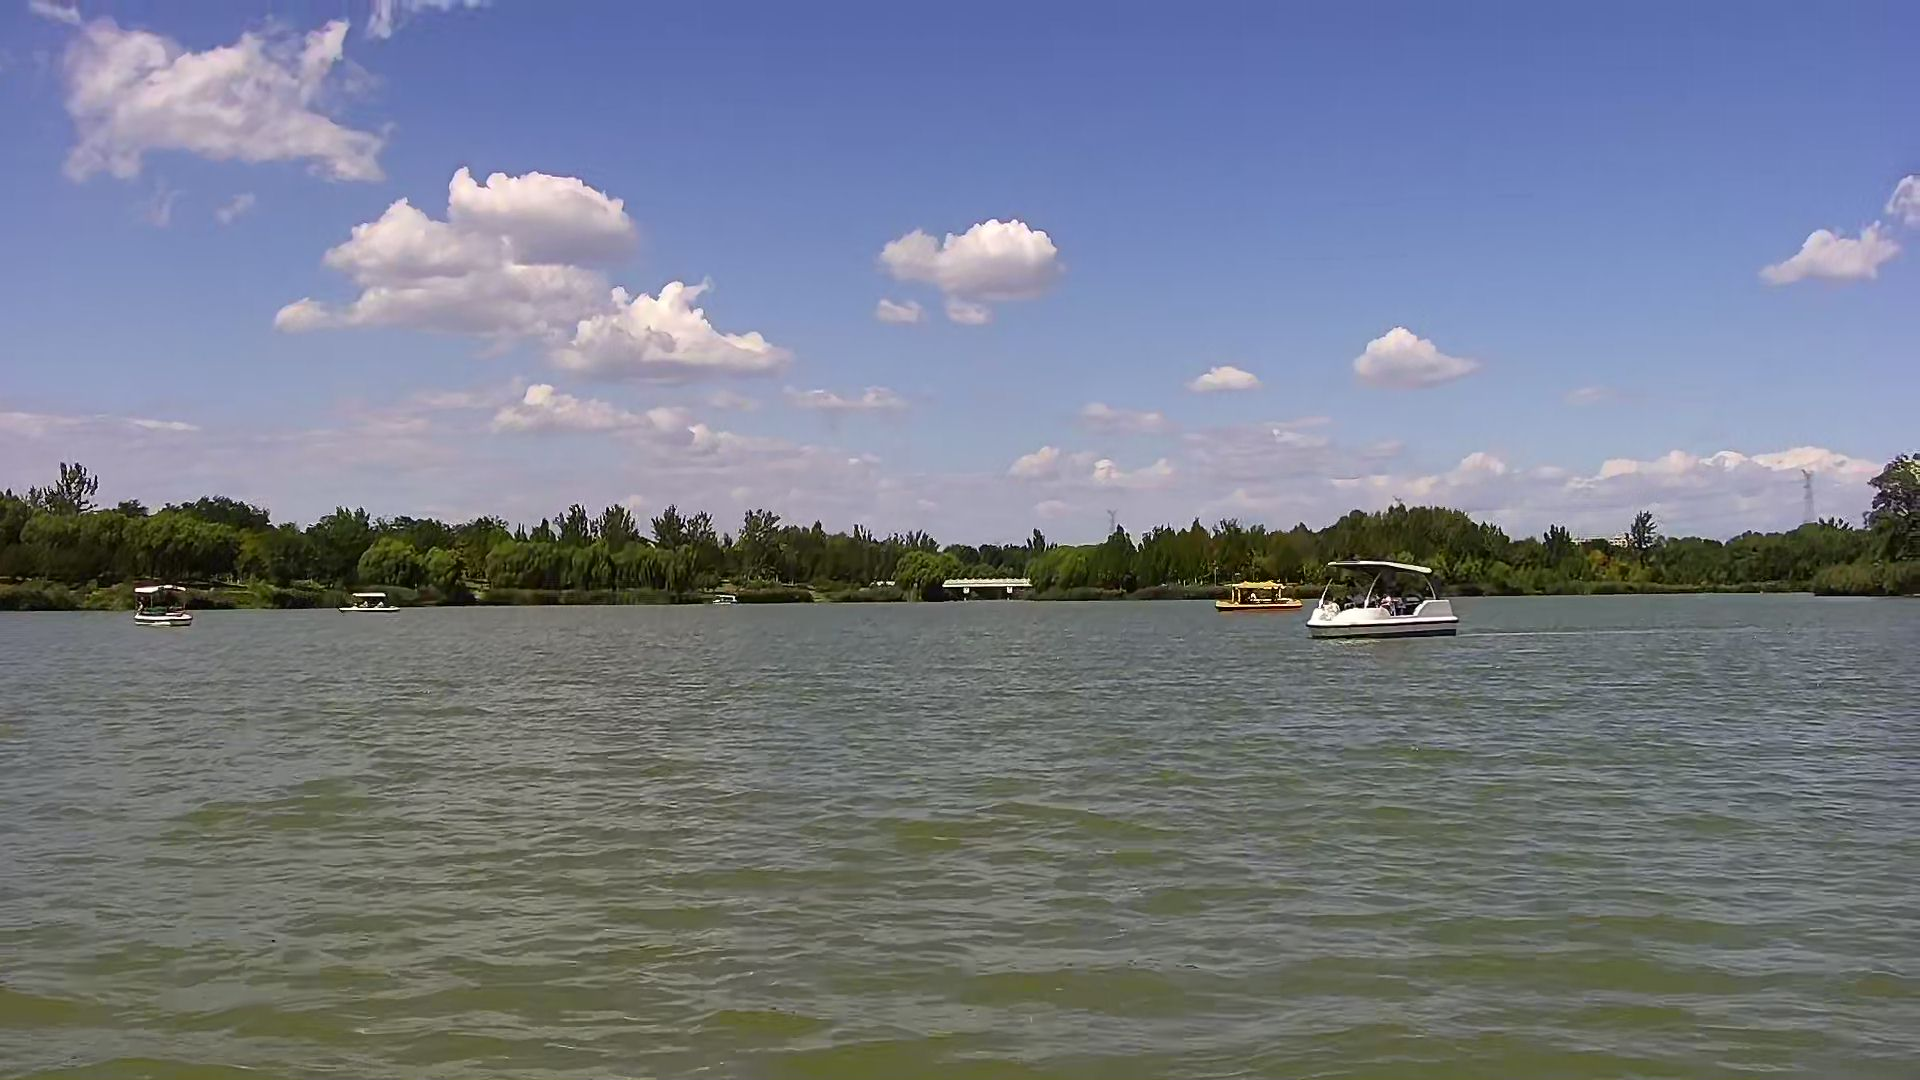boat: (1308, 556, 1458, 646), (1215, 578, 1299, 613), (133, 580, 191, 626), (342, 589, 396, 612)
bridge: (949, 574, 1030, 597)
